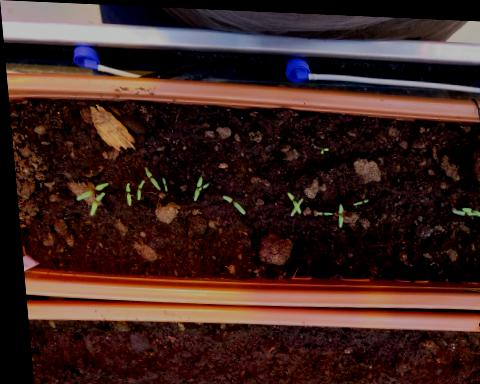crop: (216, 191, 241, 213), (330, 197, 342, 225)
